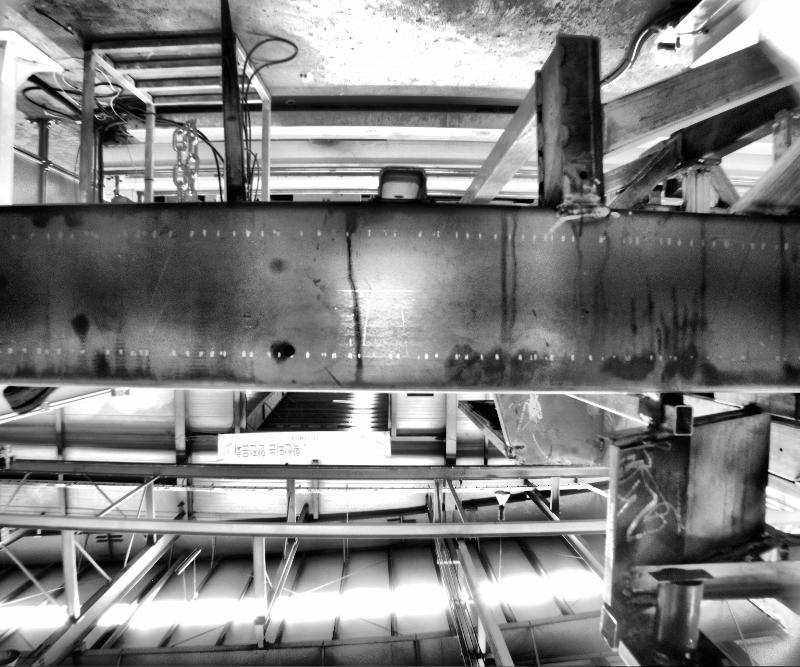bracket: (364, 157, 436, 200)
hole: (282, 342, 292, 354), (577, 170, 587, 179)
welding: (558, 189, 602, 209)
